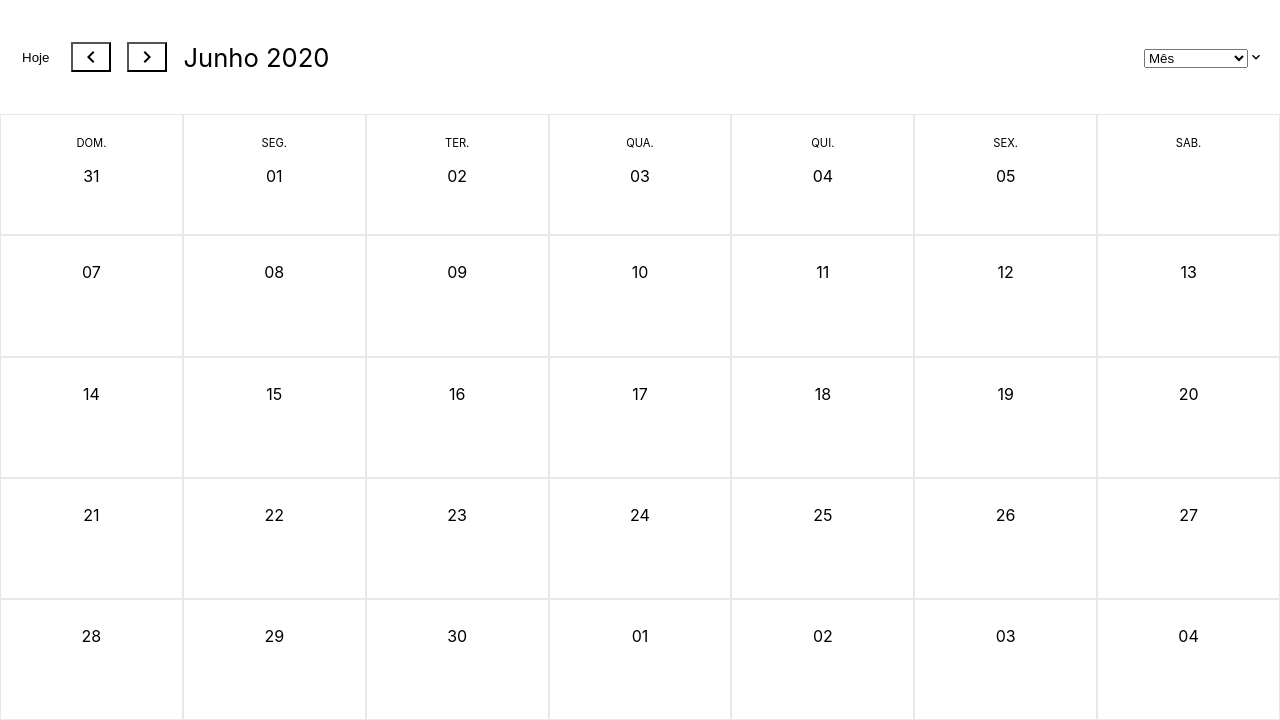
Test: Calendar › when the calendar is on week view › Next week button › changes the calendar to the next week when clicked
Select "Semana" in the dropdown named "modo" at (1196, 58), box [1144,49,1248,68]
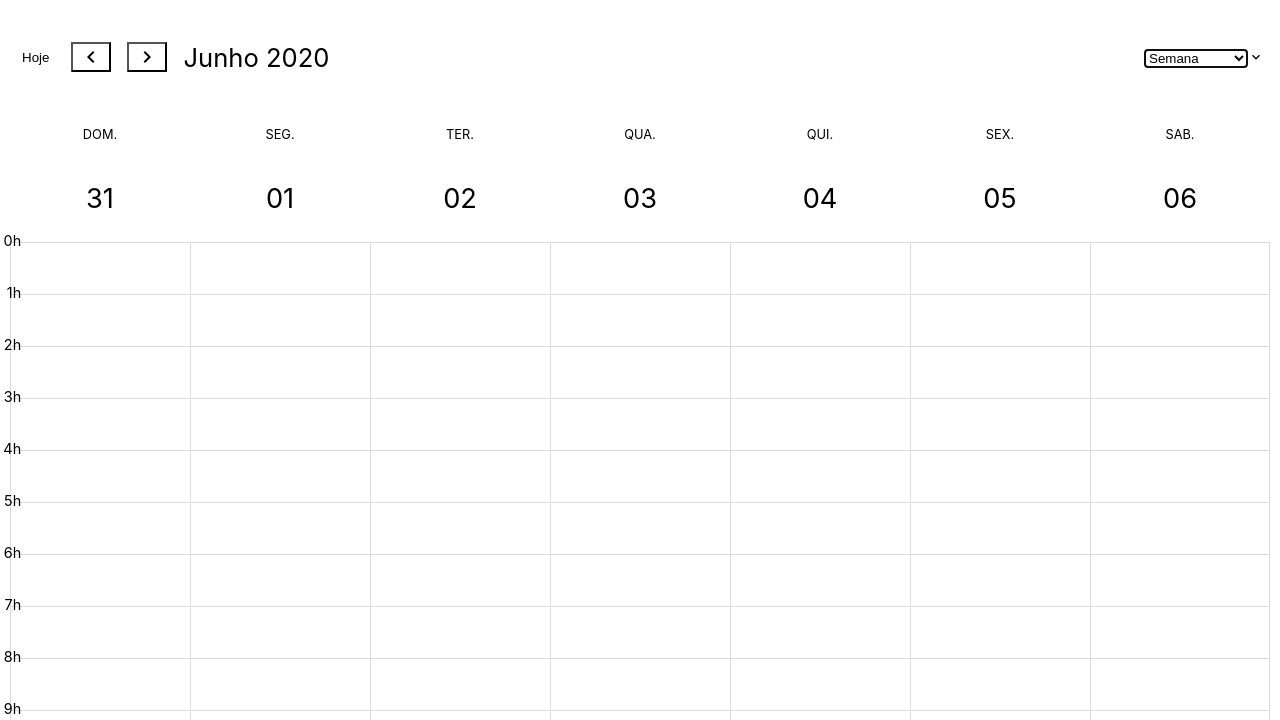
Check: the text "07" is gone
Click the button titled "Próxima semana".
click(147, 57)  # box [127,42,167,72]
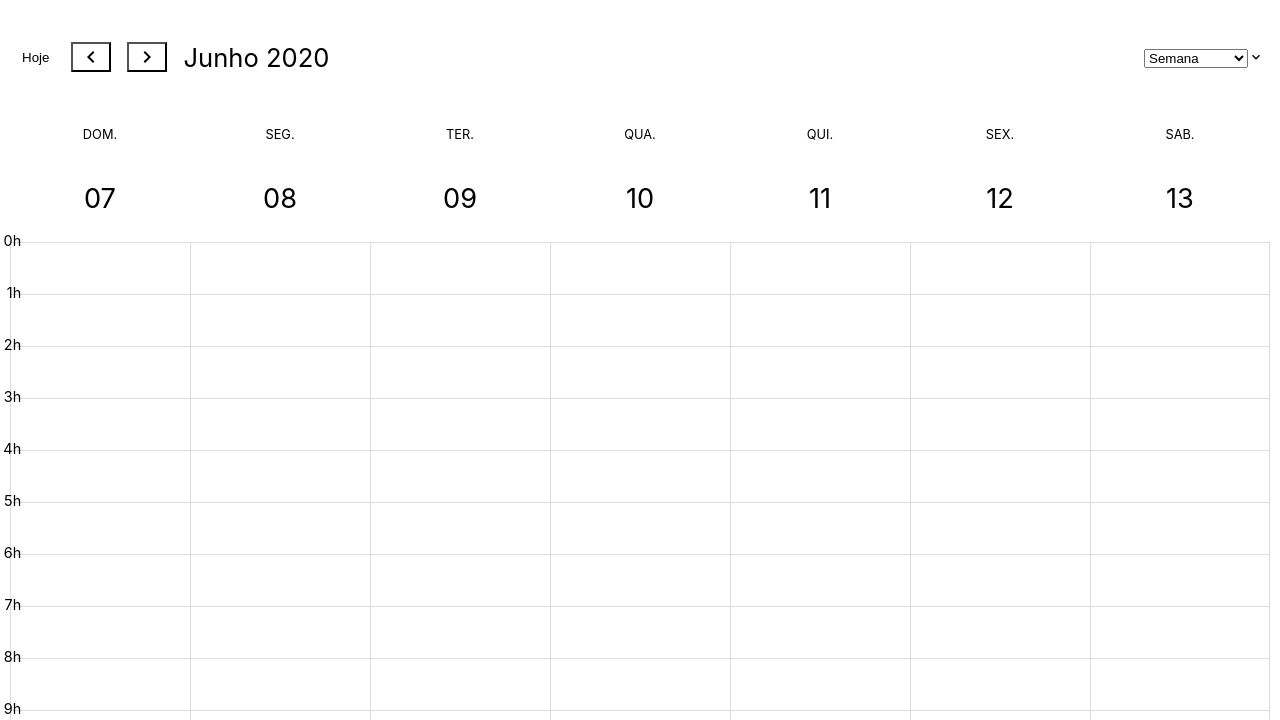
Check: the text "07" is shown, box [84,182,116,215]
